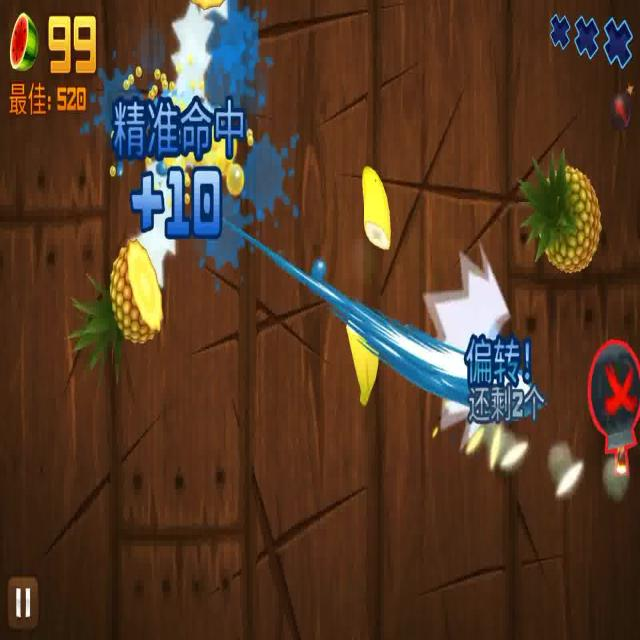bomb: (584, 334, 639, 497)
fruit: (512, 134, 605, 278), (72, 232, 161, 374), (342, 311, 390, 410), (364, 163, 387, 257)
